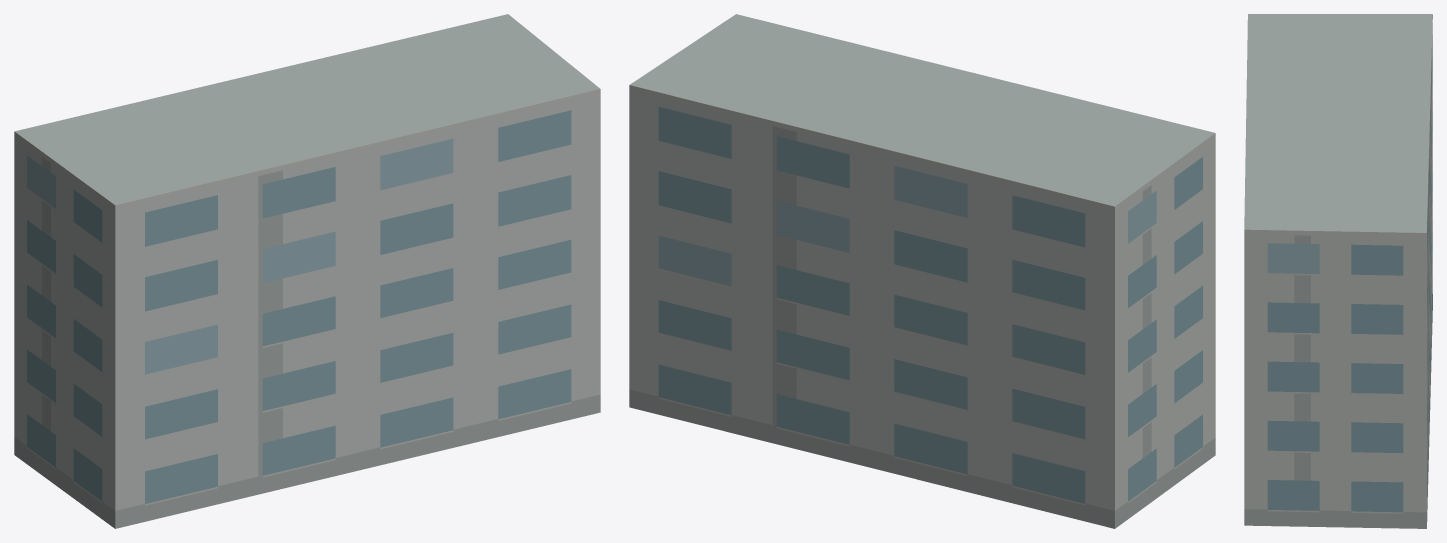
File: survey-upis-32541831.glb
3 renders of one model, left to right at view 1: azimuth 30°, elevation 25°; view 2: azimuth 150°, elevation 25°; view 3: azimuth 270°, elevation 25°, orthographic. The views are drawn at different scales.
Parts seen in each view (by area): view 1: survey-upis-32541831.tmp; view 2: survey-upis-32541831.tmp; view 3: survey-upis-32541831.tmp.
Part boxes in pixels (left/top/right/bottom): survey-upis-32541831.tmp: left=14, top=14, right=600, bottom=528; survey-upis-32541831.tmp: left=629, top=14, right=1215, bottom=528; survey-upis-32541831.tmp: left=1244, top=14, right=1432, bottom=528.
Size of the model in its own units: 24.22 by 15.25 by 8.81.
